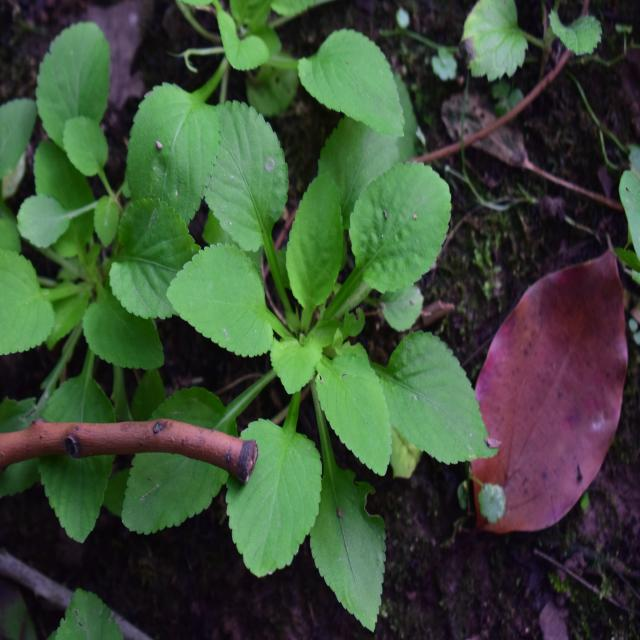Viola: (170, 87, 492, 611)
